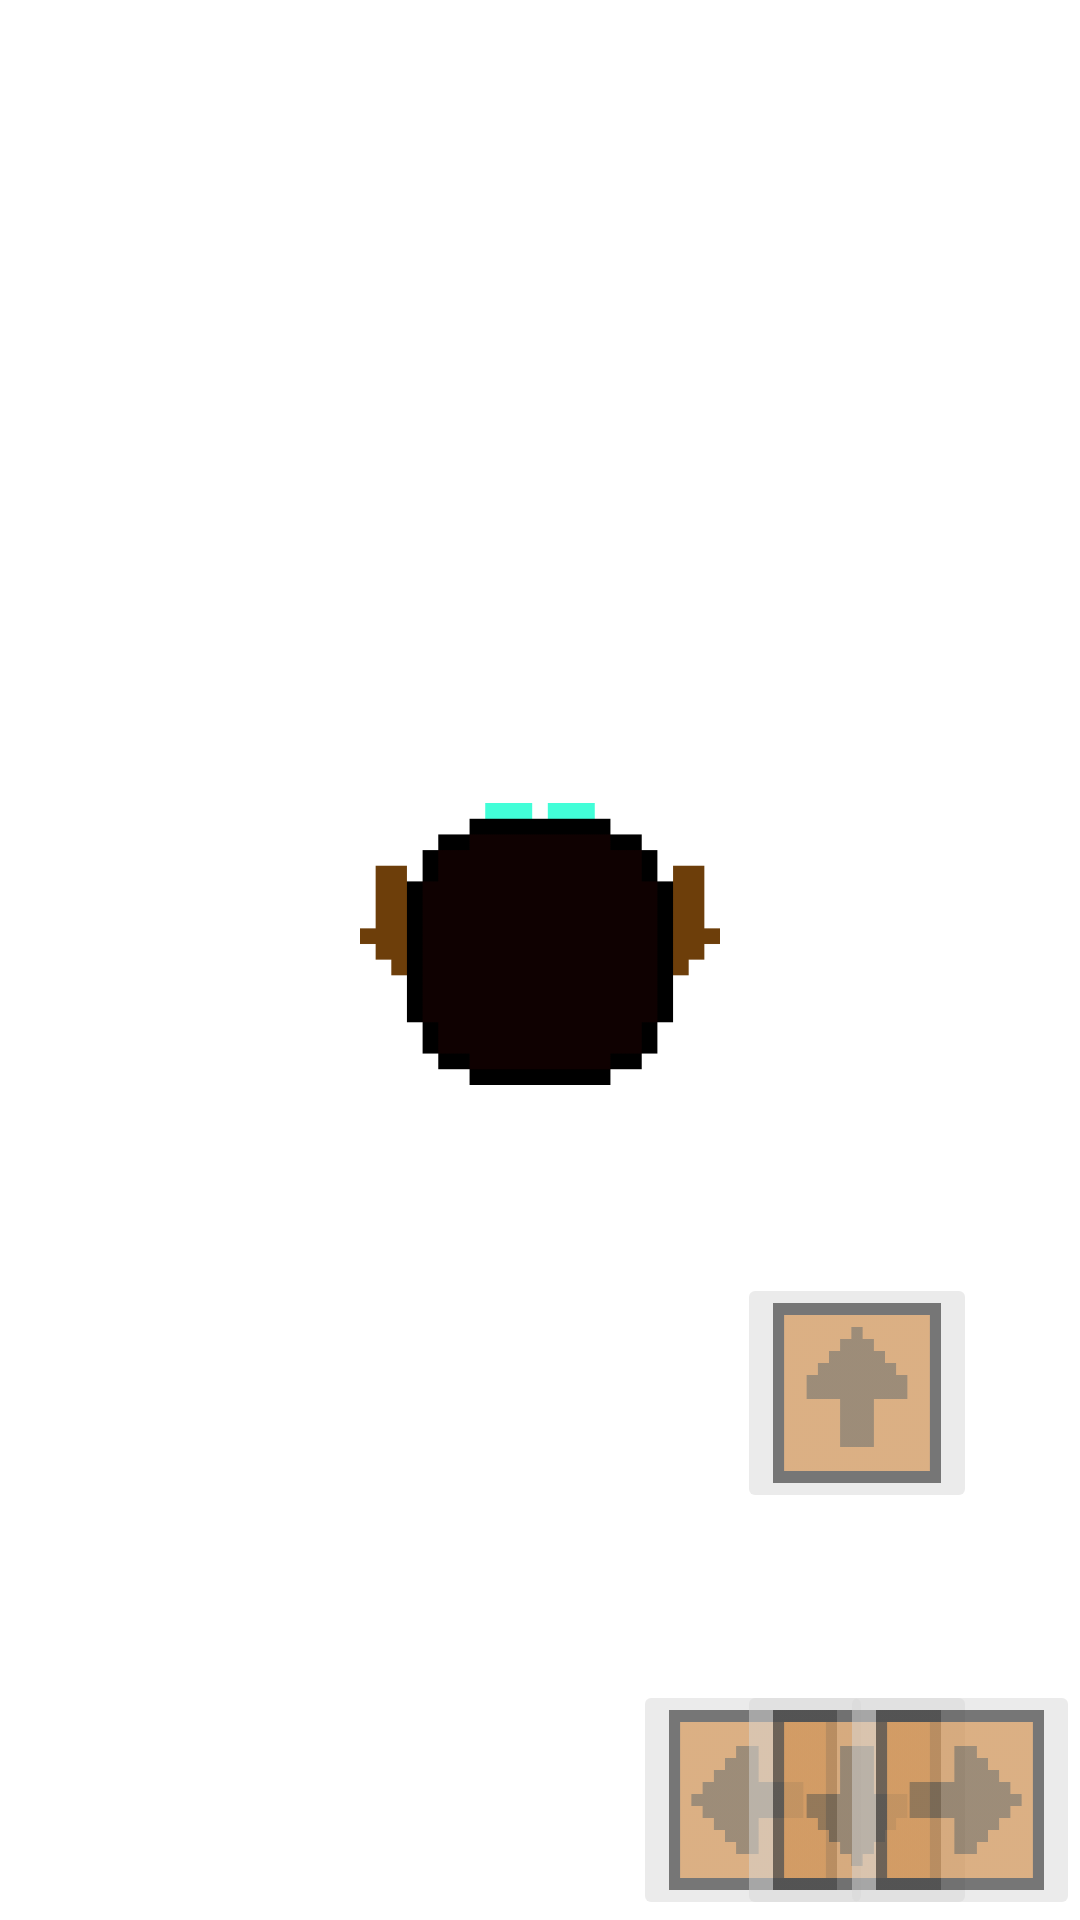

Screen size 1080×1920. Icon name, then its box in pixels as (x1, y1, x2, y2):
uparrow: (773, 1303, 941, 1483)
